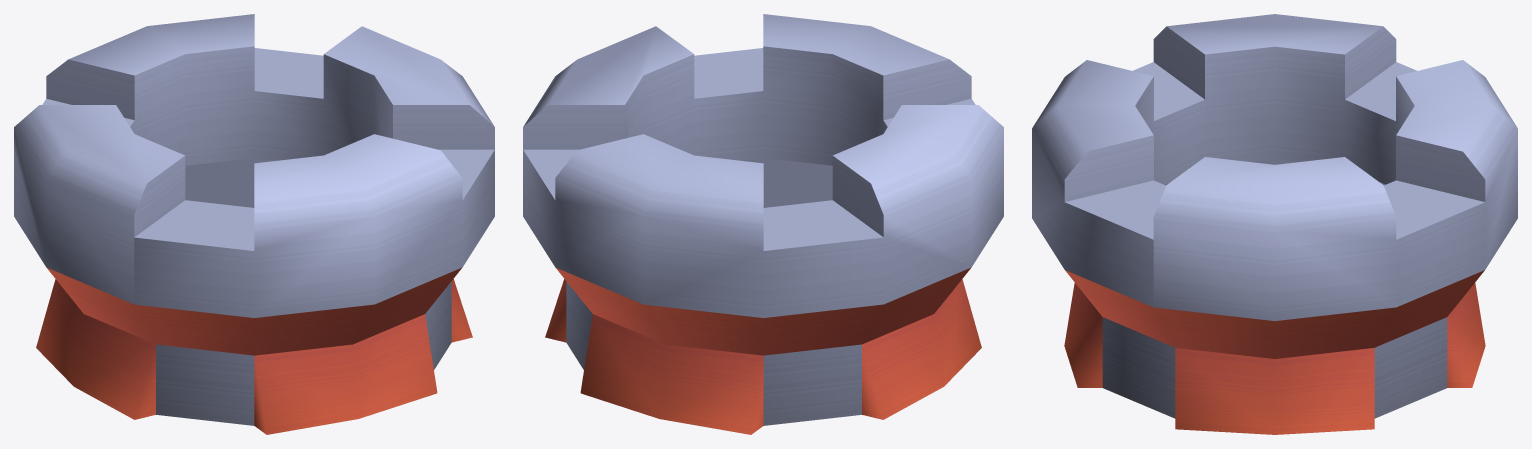
The model's file is tower-defense-kit--tower-round-top-c.glb.
3 renders of one model, left to right at view 1: azimuth 30°, elevation 25°; view 2: azimuth 150°, elevation 25°; view 3: azimuth 270°, elevation 25°, orthographic.
Visible parts, largest first — view 1: tower-round-top-c; view 2: tower-round-top-c; view 3: tower-round-top-c.
Boxes of the visible parts, x1,y1,x2,y2 form: tower-round-top-c: [14, 14, 494, 434]; tower-round-top-c: [523, 14, 1003, 434]; tower-round-top-c: [1032, 14, 1517, 434].
Bounding box in the file's own units: 0.976 × 0.5325 × 0.976.
1 material, 1 textured.
